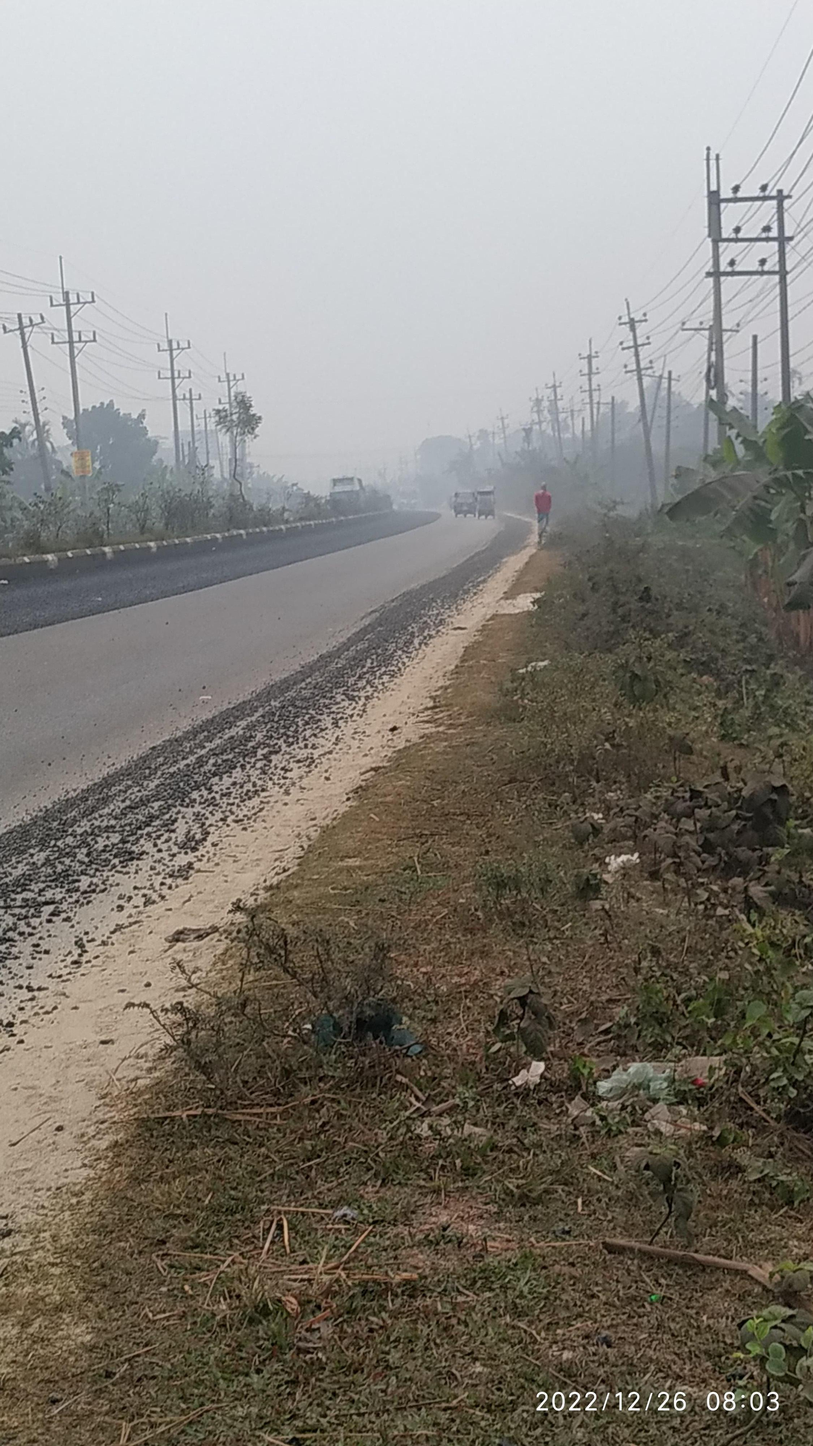Bus: (321, 470, 379, 520)
Car: (470, 482, 504, 526)
